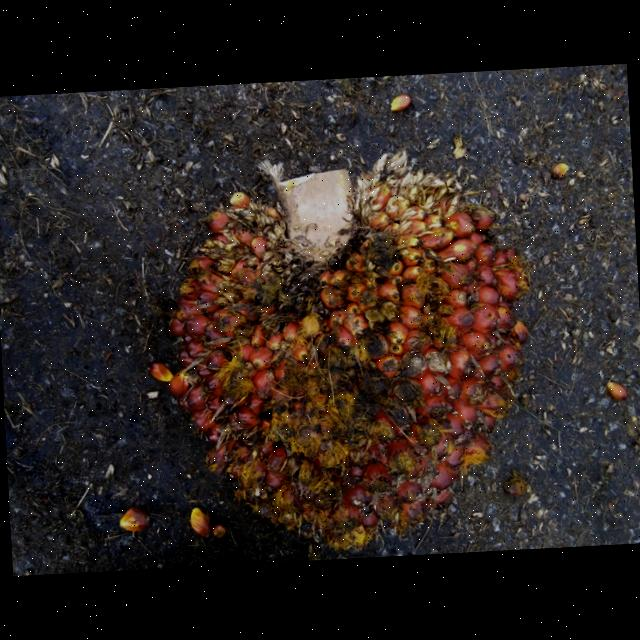Ripe: (160, 159, 527, 546)
